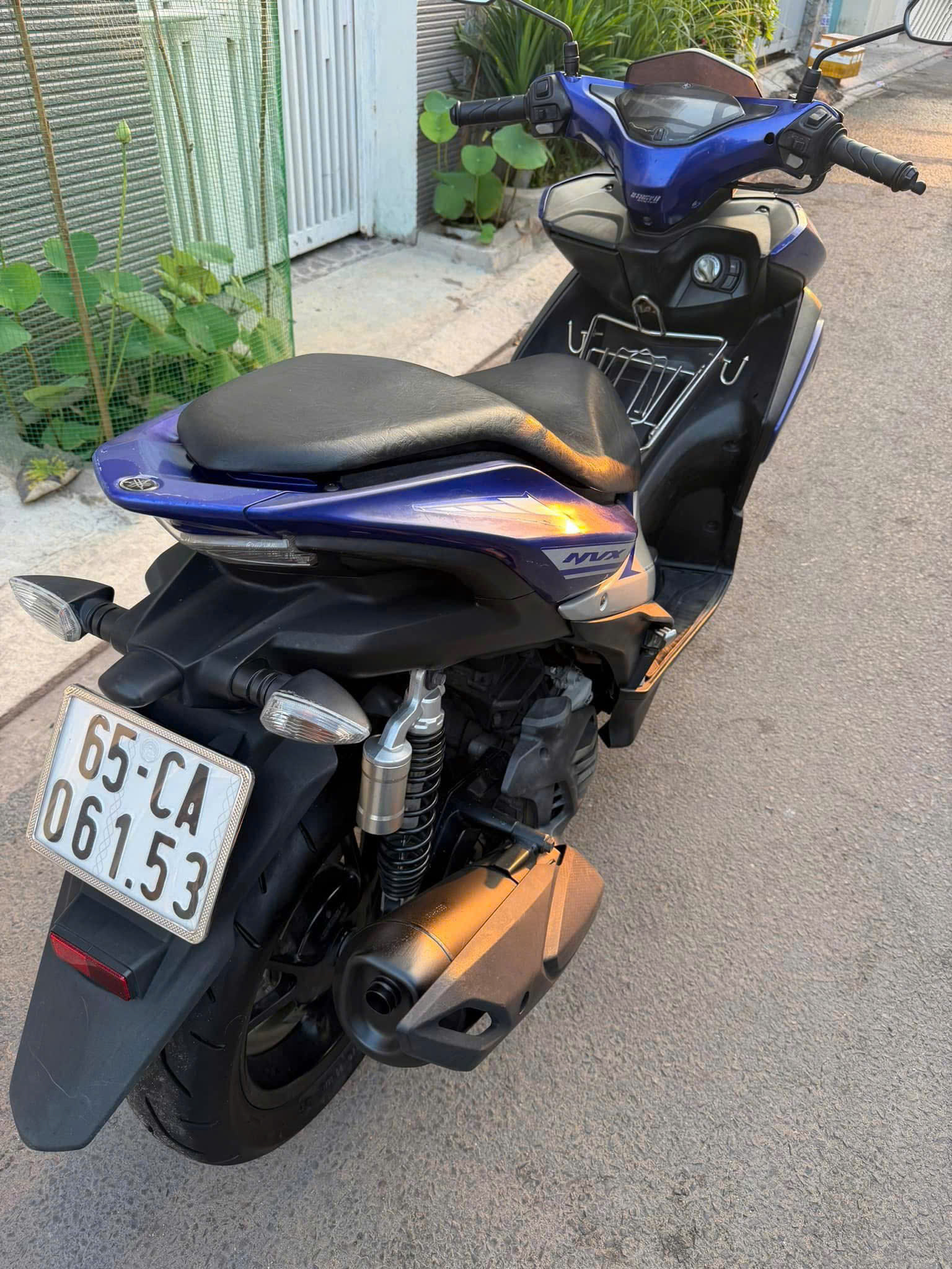Bien-so: (27, 686, 251, 943)
